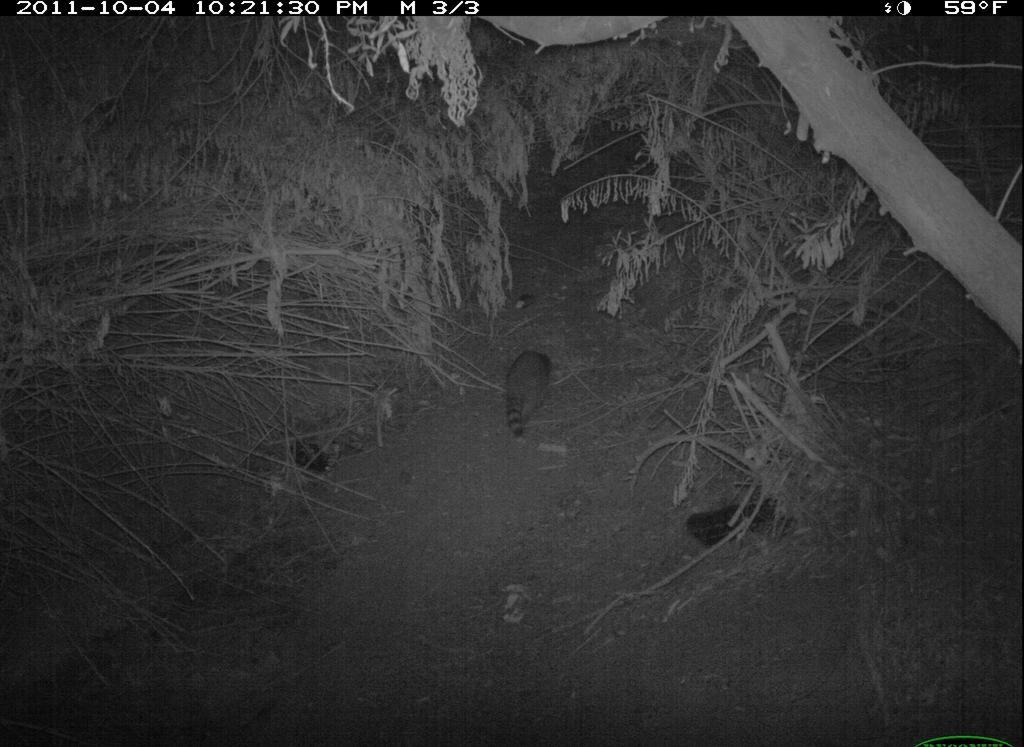raccoon: (483, 337, 577, 456)
